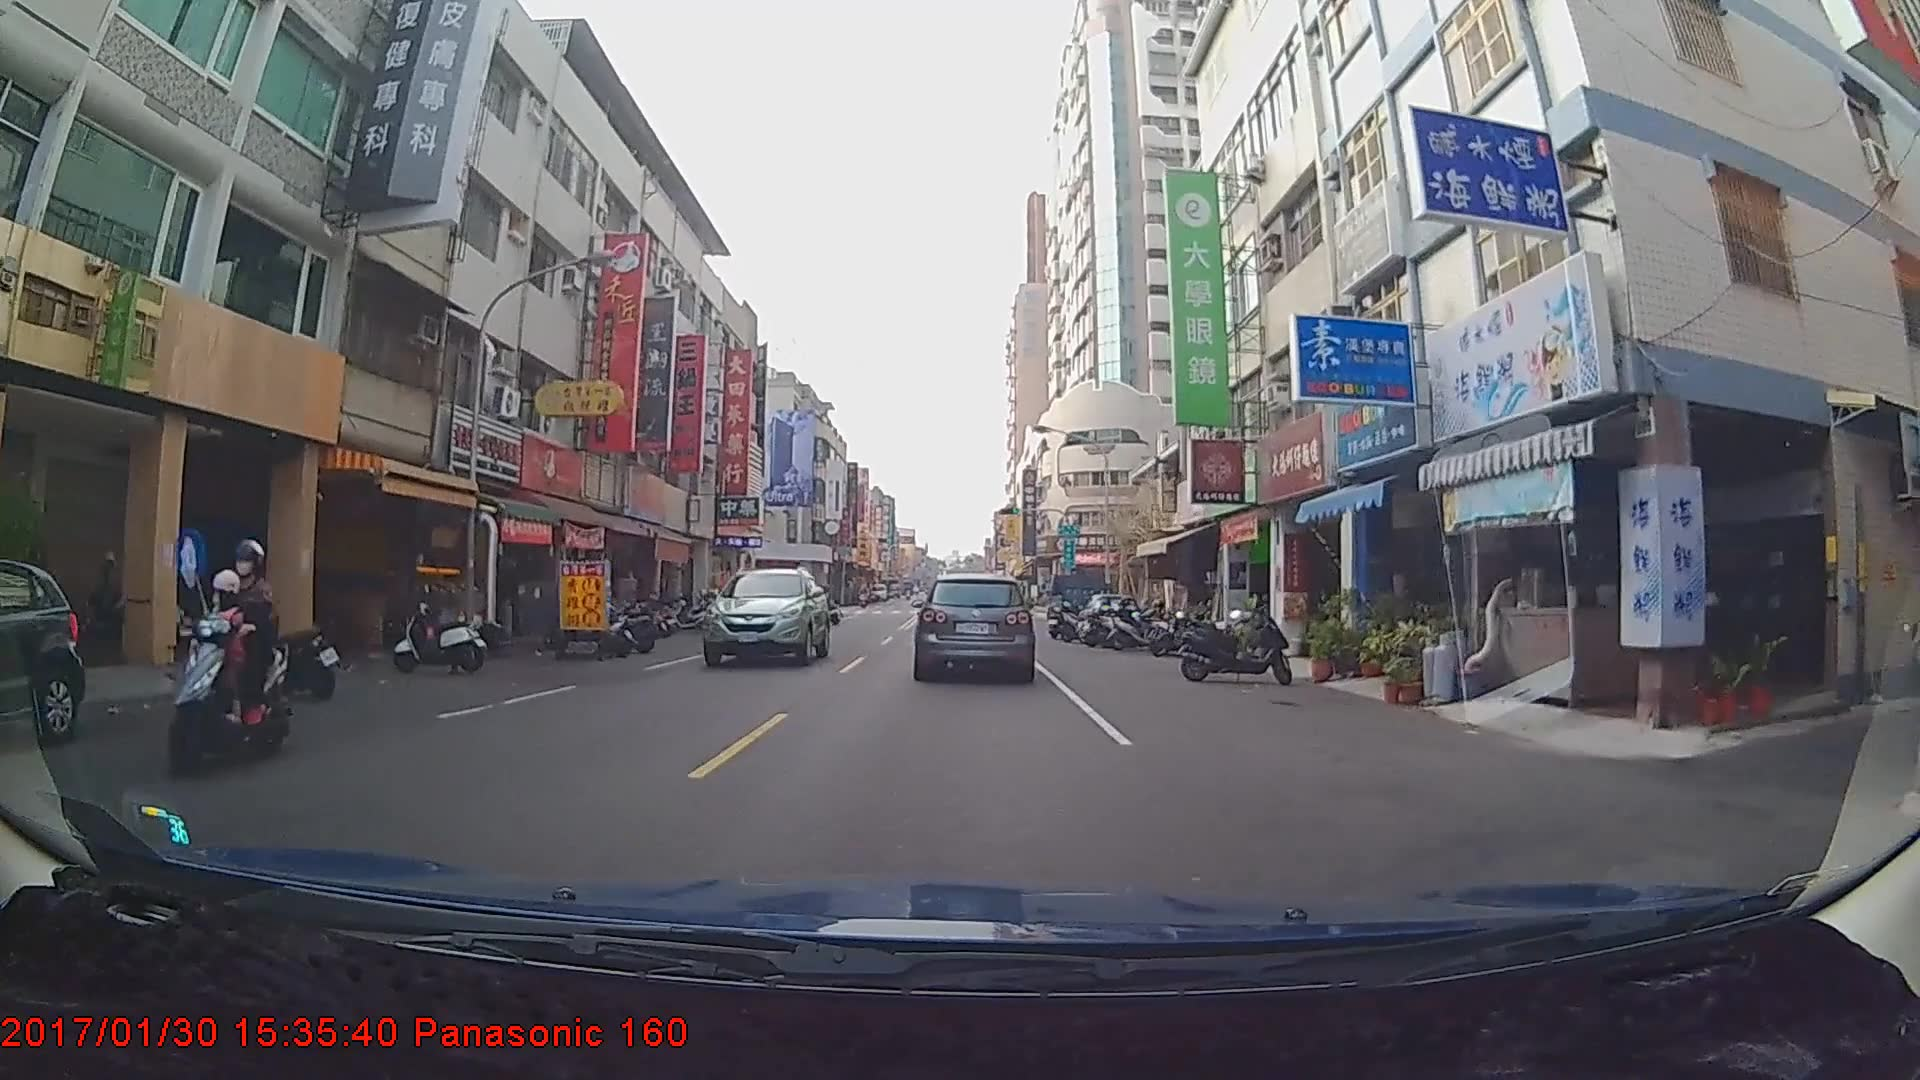rider: (158, 535, 297, 776)
vehicle: (697, 565, 830, 669), (915, 572, 1033, 680), (1048, 571, 1118, 633)
